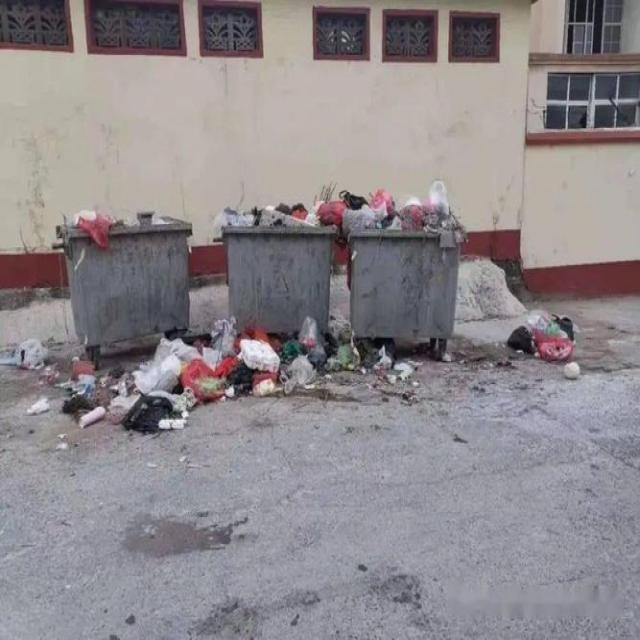garbage: (8, 316, 424, 438), (508, 310, 578, 376)
overflow: (340, 179, 462, 337), (52, 209, 192, 344), (212, 180, 337, 329)
